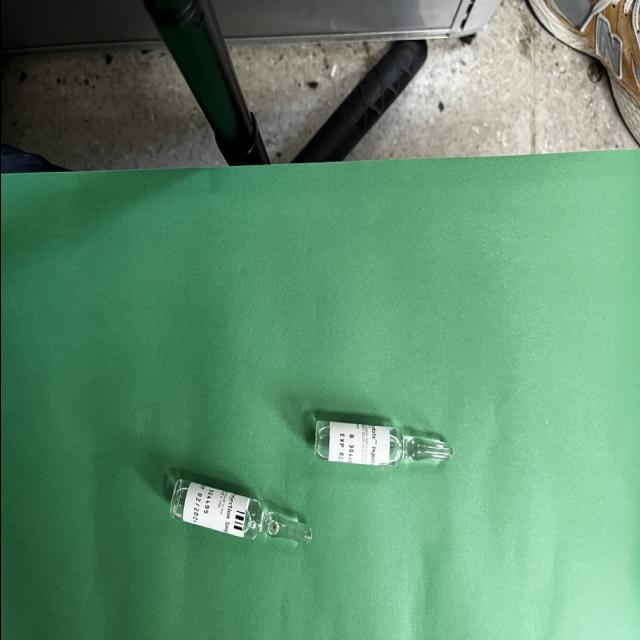Ampoules: (169, 479, 312, 543), (314, 420, 452, 465)
